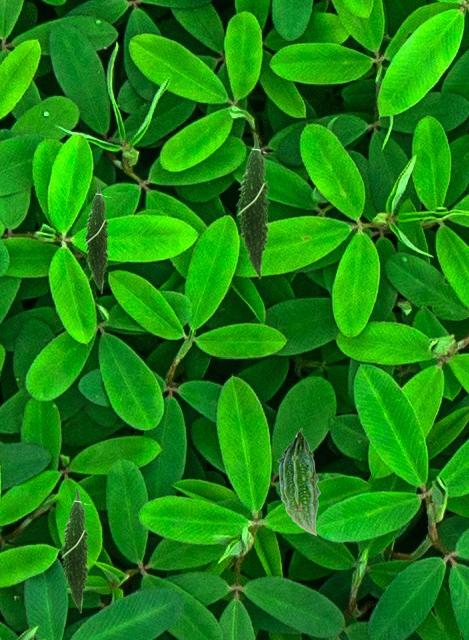ampalaya: (235, 131, 274, 279), (277, 427, 321, 536), (59, 486, 93, 613), (82, 180, 112, 294)
